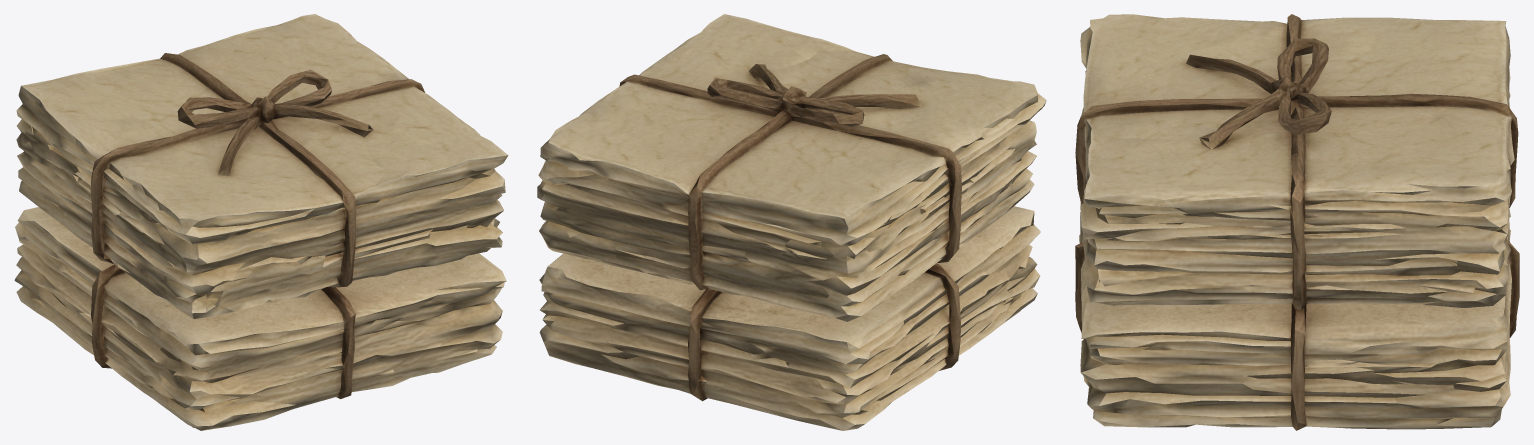
Rendered from paper-stack.glb.
The picture shows the model from 3 angles, left to right: view 1: azimuth 30°, elevation 25°; view 2: azimuth 150°, elevation 25°; view 3: azimuth 270°, elevation 25°; orthographic projection. The views are drawn at different scales.
Visible parts, largest first — view 1: world; view 2: world; view 3: world.
Boxes of the visible parts, bbox=[...] form: world: bbox=[14, 14, 508, 430]; world: bbox=[537, 14, 1046, 430]; world: bbox=[1075, 14, 1519, 430].
Size of the model in its own units: 1 by 0.6957 by 1.
Materials: 1 (1 with a texture image).
